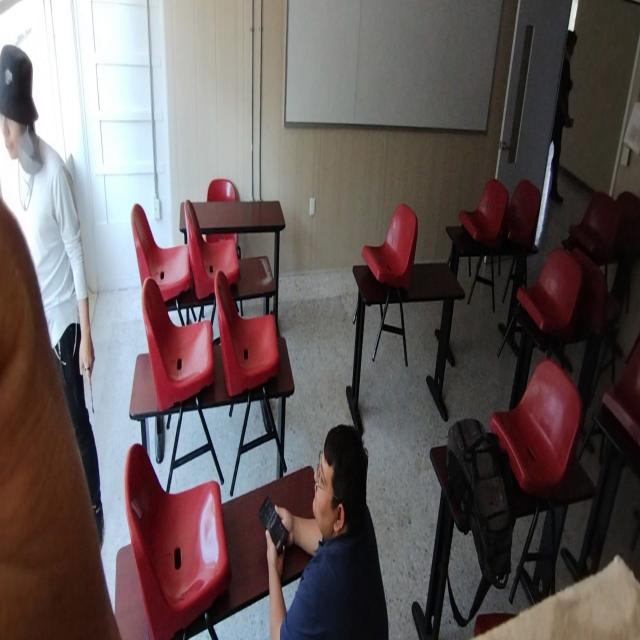adult: (0, 42, 103, 547), (265, 423, 390, 640), (544, 27, 577, 205)
